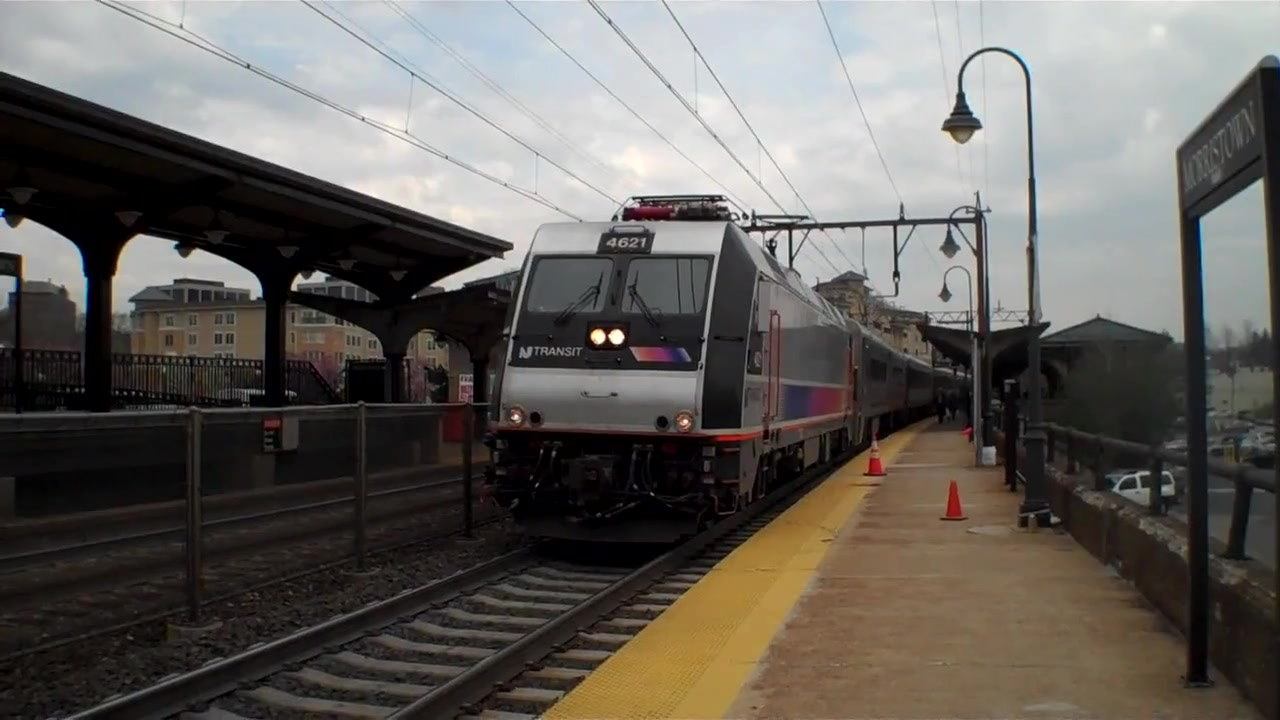train: (495, 201, 959, 527)
